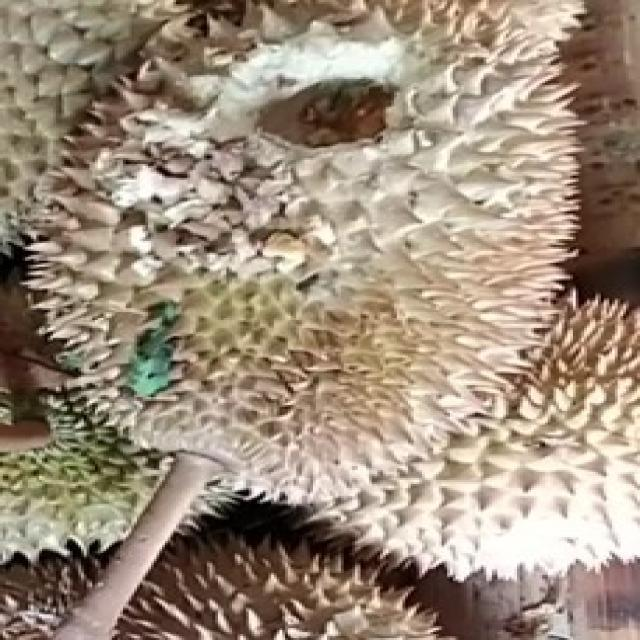defective: (24, 0, 586, 511)
